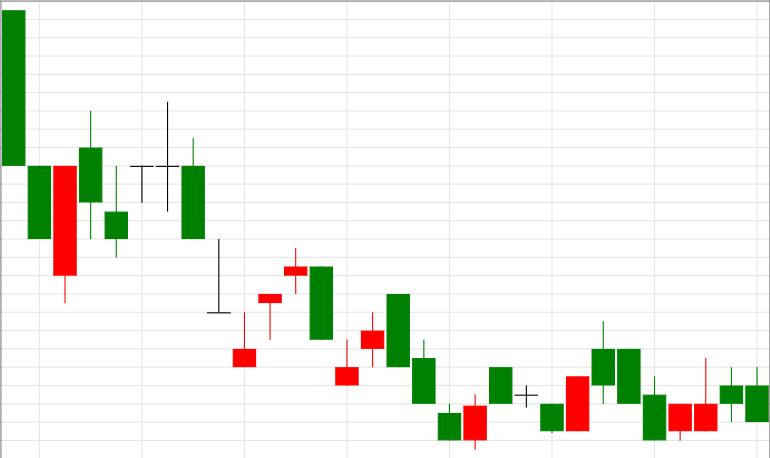bullish_engulfing_rise: (387, 294, 487, 449), (489, 368, 589, 433)
inverse_hammer_rise: (591, 321, 718, 441)
